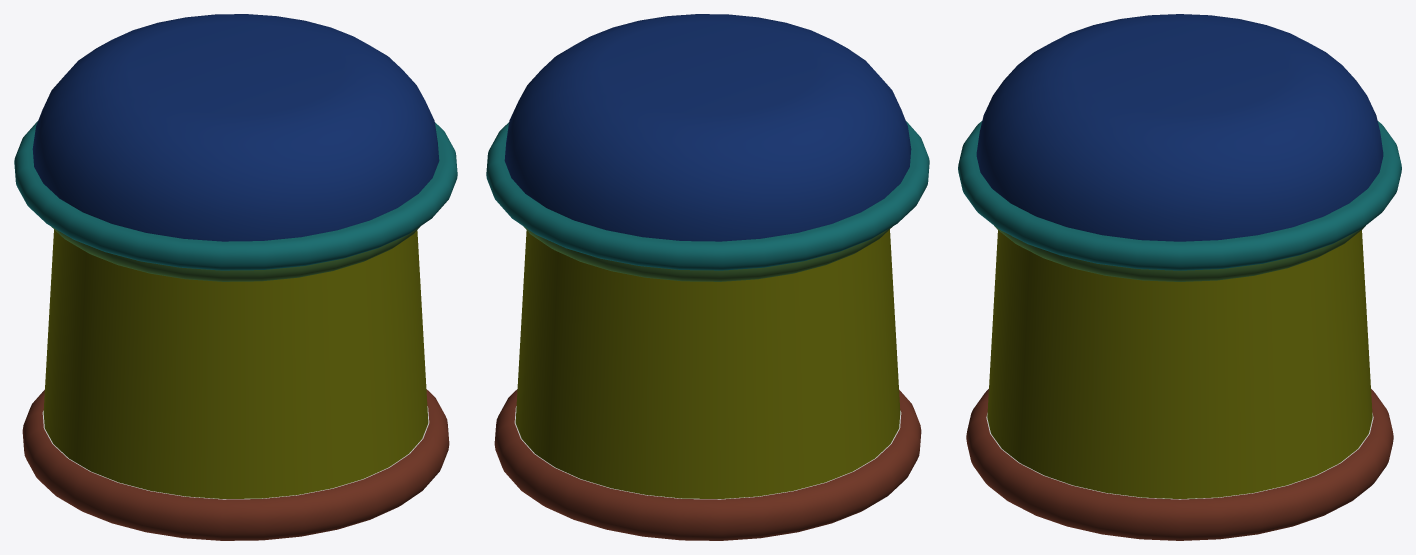
File: SetA_Container_Style_19.fbx
3 views of the same model, side by side, from view 1: azimuth 30°, elevation 25°; view 2: azimuth 150°, elevation 25°; view 3: azimuth 270°, elevation 25° (orthographic).
Visible parts, largest first — view 1: SetA_Container_Style_19; view 2: SetA_Container_Style_19; view 3: SetA_Container_Style_19.
Part boxes in pixels (left/top/right/bottom): SetA_Container_Style_19: left=14, top=14, right=457, bottom=540; SetA_Container_Style_19: left=486, top=14, right=929, bottom=540; SetA_Container_Style_19: left=958, top=14, right=1401, bottom=540.
Bounding box in the file's own units: 0.193 × 0.1866 × 0.193.
